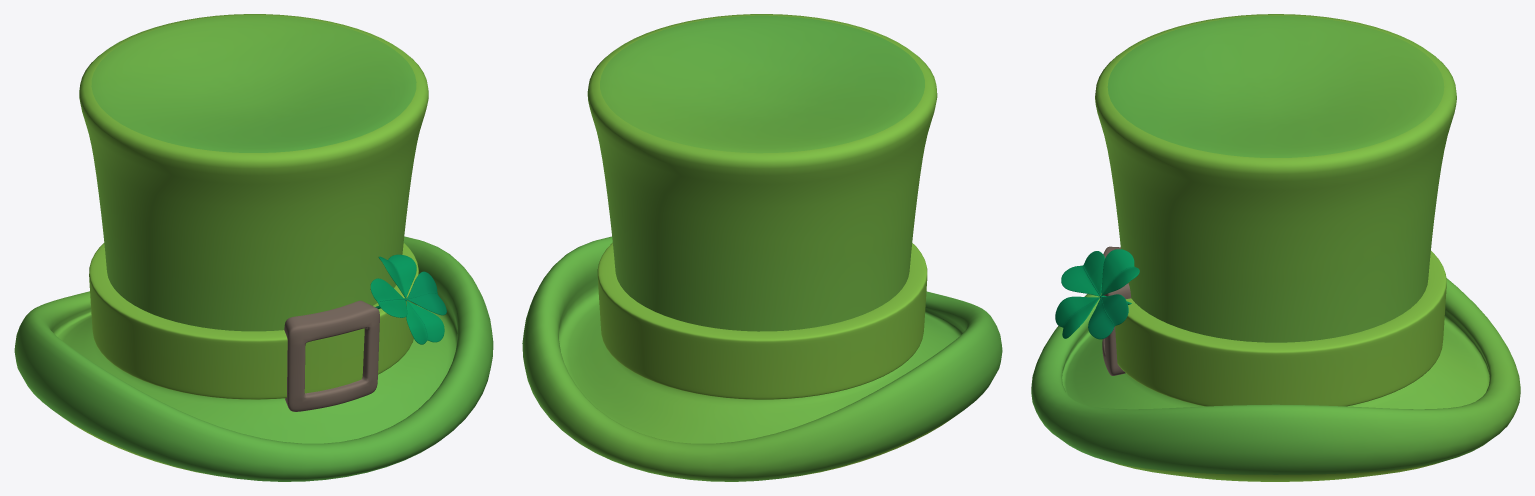
The model's file is St.patric.fbx.
The picture shows the model from 3 angles, left to right: view 1: azimuth 30°, elevation 25°; view 2: azimuth 150°, elevation 25°; view 3: azimuth 270°, elevation 25°; orthographic projection. The views are drawn at different scales.
Visible parts, largest first — view 1: St. patric; view 2: St. patric; view 3: St. patric.
Part boxes in pixels (left/top/right/bottom): St. patric: left=14, top=14, right=493, bottom=481; St. patric: left=522, top=14, right=1002, bottom=481; St. patric: left=1031, top=14, right=1520, bottom=481.
Bounding box in the file's own units: 129 × 92.1 × 127.
1 material, 1 textured.
